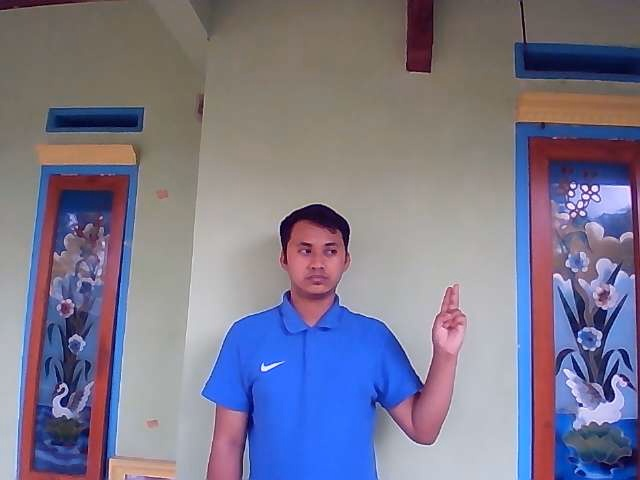U: (431, 283, 466, 352)
